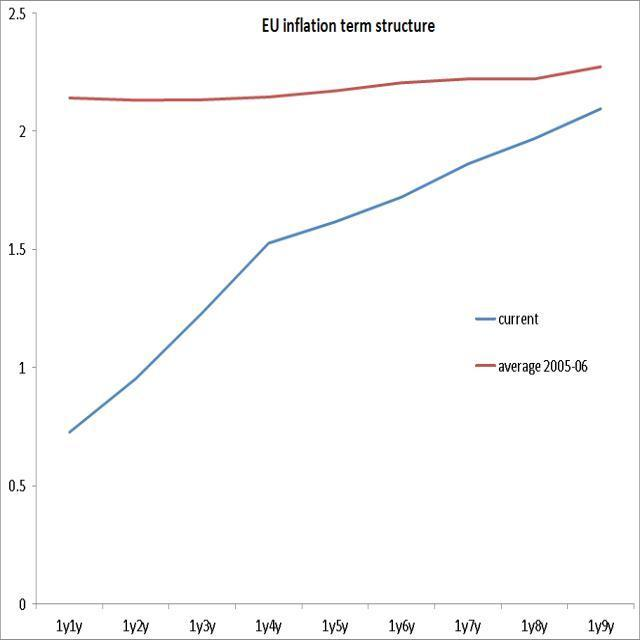axis: (30, 595, 638, 615), (26, 5, 41, 617)
line: (65, 103, 607, 435), (65, 60, 603, 103)
